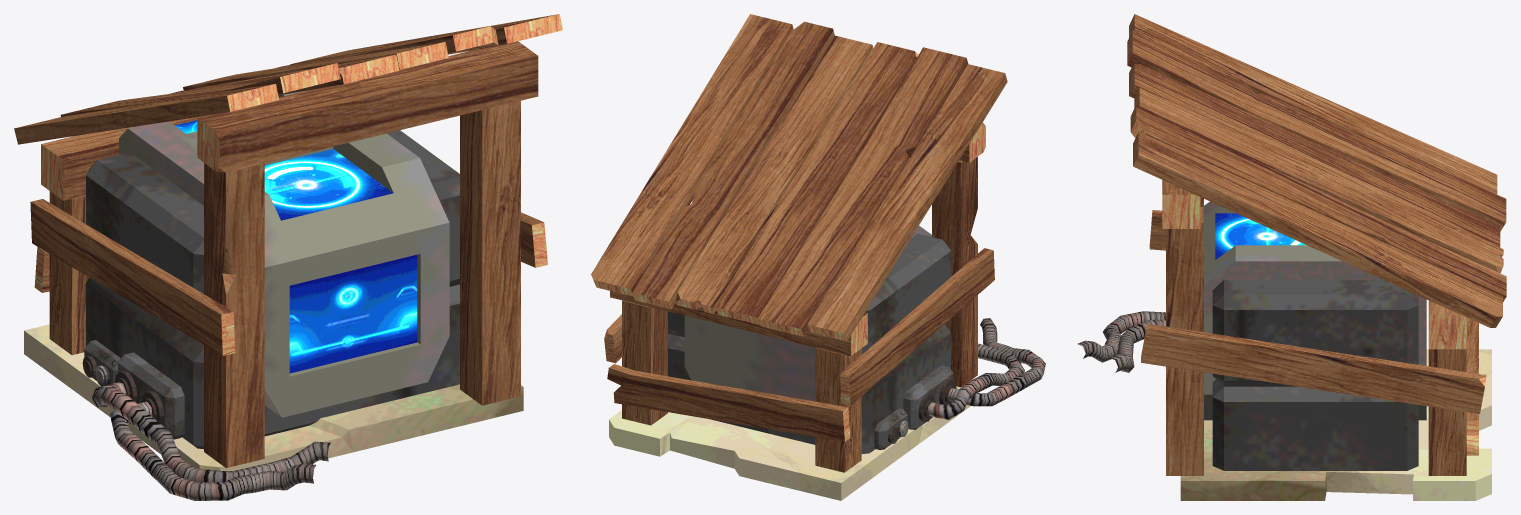
The model's file is solarStation1-1.glb.
3 views of the same model, side by side, from view 1: azimuth 30°, elevation 25°; view 2: azimuth 150°, elevation 25°; view 3: azimuth 270°, elevation 25° (orthographic). The views are drawn at different scales.
Visible parts, largest first — view 1: shack1, batteryPackAddition, shackRoof, batteryPack.001, foundation.004, batteryPack, wire.013, wire.014, antennaTower.002, antennaTower.007; view 2: shackRoof, shack1, foundation.004, batteryPackAddition, batteryPack.001, batteryPack, wire.013, wire.014, antennaTower.002, antennaTower.007; view 3: shackRoof, shack1, batteryPack, batteryPack.001, foundation.004, batteryPackAddition, wire.013, wire.014.
Boxes of the visible parts, x1=… form: shack1: x1=30, y1=41, x2=547, y2=467; batteryPackAddition: x1=119, y1=90, x2=449, y2=417; shackRoof: x1=14, y1=14, x2=562, y2=144; batteryPack.001: x1=86, y1=130, x2=459, y2=345; foundation.004: x1=24, y1=324, x2=523, y2=471; batteryPack: x1=86, y1=277, x2=459, y2=449; wire.013: x1=110, y1=401, x2=316, y2=500; wire.014: x1=91, y1=382, x2=330, y2=482; antennaTower.002: x1=118, y1=352, x2=184, y2=439; antennaTower.007: x1=84, y1=340, x2=120, y2=384; shackRoof: x1=591, y1=14, x2=1007, y2=341; shack1: x1=604, y1=122, x2=994, y2=472; foundation.004: x1=609, y1=386, x2=970, y2=500; batteryPackAddition: x1=684, y1=225, x2=931, y2=401; batteryPack.001: x1=668, y1=233, x2=950, y2=354; batteryPack: x1=668, y1=324, x2=950, y2=454; wire.013: x1=948, y1=318, x2=1045, y2=406; wire.014: x1=927, y1=343, x2=1024, y2=419; antennaTower.002: x1=903, y1=365, x2=953, y2=429; antennaTower.007: x1=874, y1=408, x2=907, y2=449; shackRoof: x1=1127, y1=14, x2=1506, y2=327; shack1: x1=1141, y1=180, x2=1486, y2=475; batteryPack: x1=1212, y1=379, x2=1418, y2=470; batteryPack.001: x1=1212, y1=280, x2=1418, y2=386; foundation.004: x1=1180, y1=349, x2=1491, y2=500; batteryPackAddition: x1=1203, y1=201, x2=1426, y2=420; wire.013: x1=1077, y1=311, x2=1165, y2=362; wire.014: x1=1110, y1=319, x2=1165, y2=372.
Bounding box in the file's own units: 1.14 × 1.17 × 1.28.
1 material, 1 textured.
